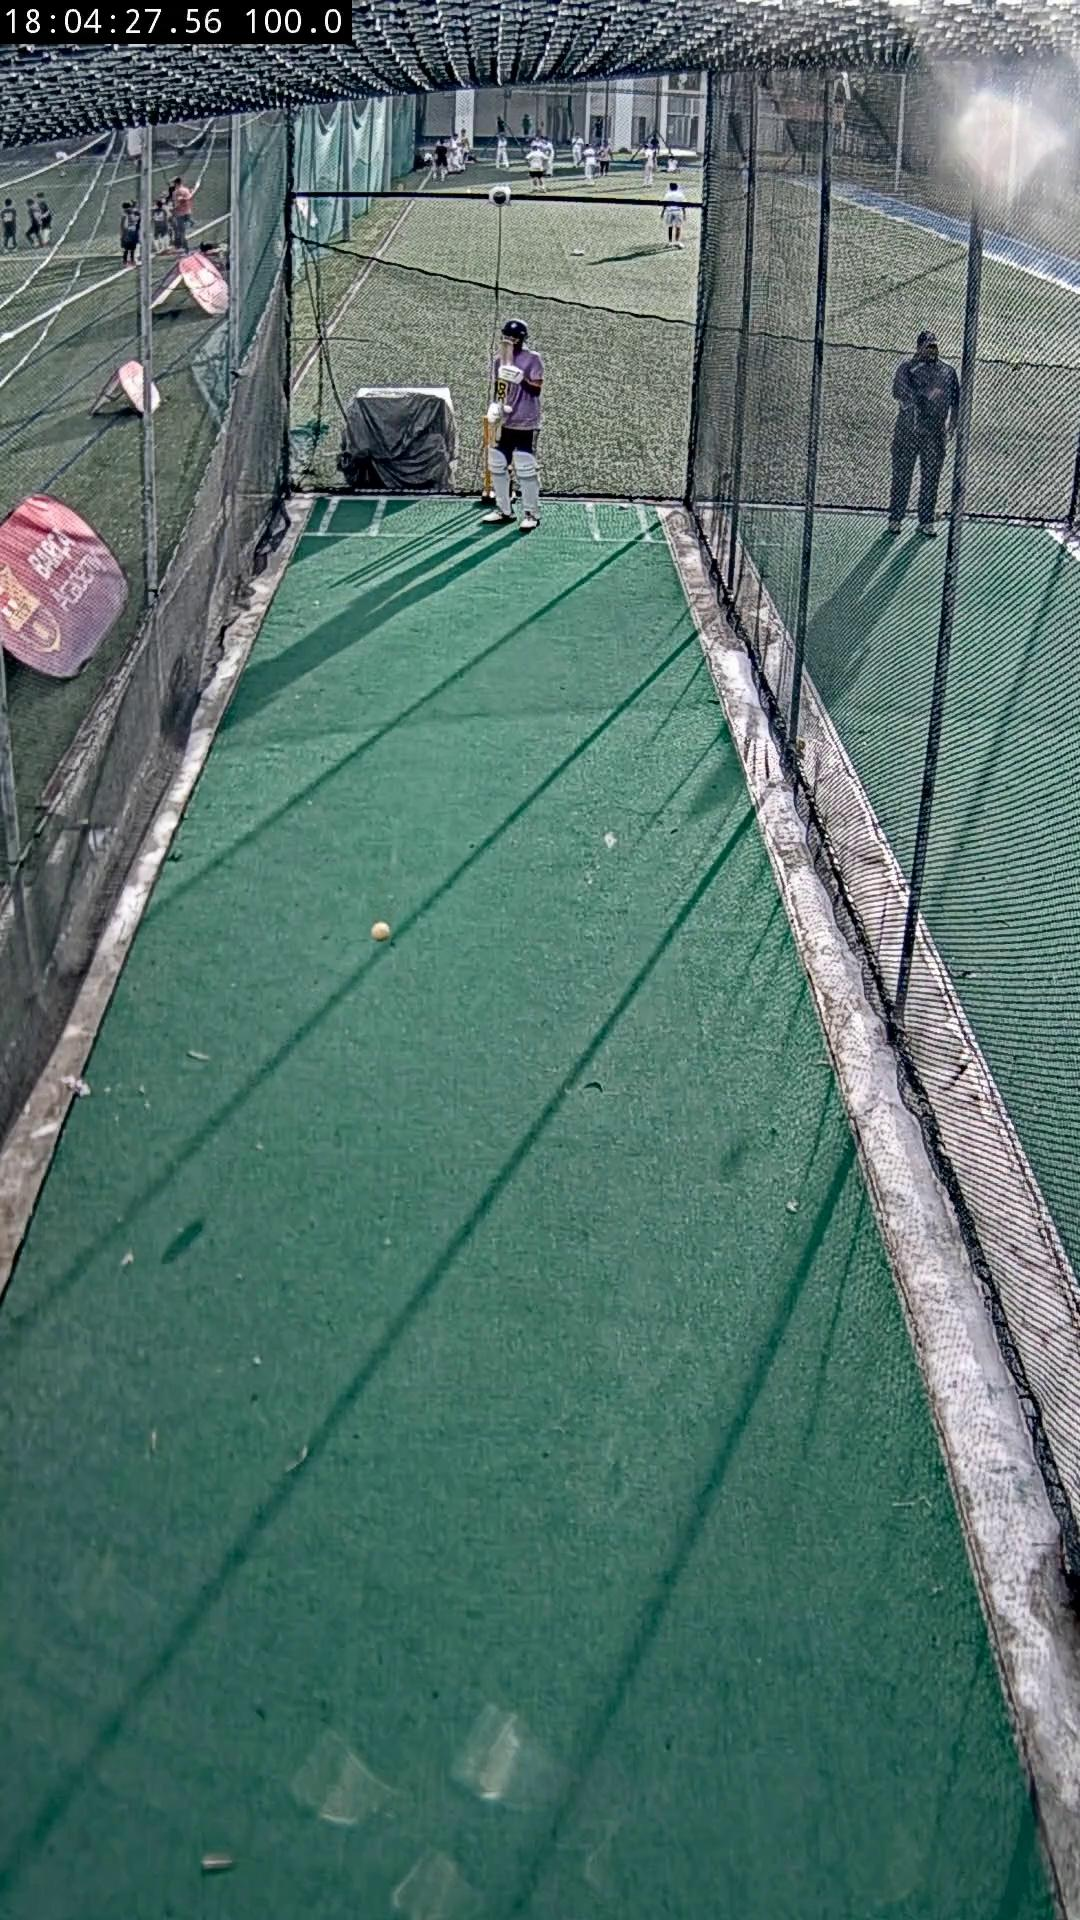ball: (372, 923, 390, 942)
bat: (498, 338, 514, 363), (495, 380, 506, 405)
gloves: (484, 401, 506, 431), (498, 364, 521, 382)
helmet: (502, 319, 529, 339)
pads: (514, 450, 541, 517), (488, 450, 514, 514)
stumps: (480, 417, 495, 493)
